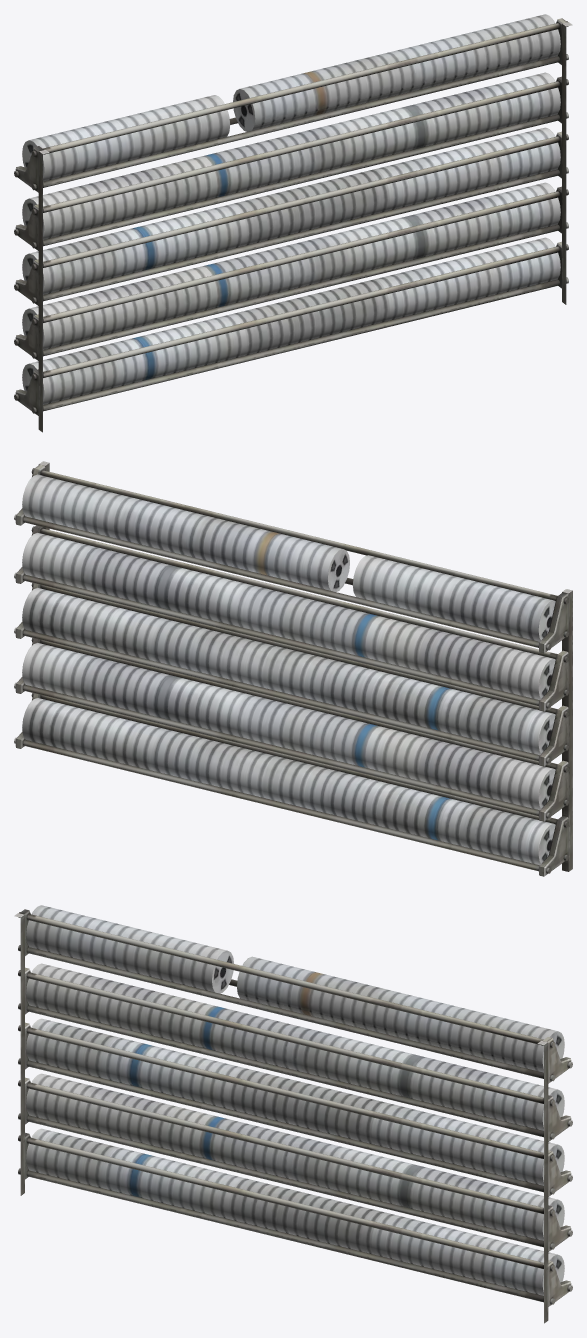
3 views of the same model, one above another, from view 1: azimuth 30°, elevation 25°; view 2: azimuth 150°, elevation 25°; view 3: azimuth 330°, elevation 25° (orthographic).
Visible parts, largest first — view 1: body0_model0_lod0_mesh0; view 2: body0_model0_lod0_mesh0; view 3: body0_model0_lod0_mesh0.
Boxes of the visible parts, <box> form: body0_model0_lod0_mesh0: <box>14,14,572,432</box>; body0_model0_lod0_mesh0: <box>14,461,572,876</box>; body0_model0_lod0_mesh0: <box>14,905,572,1323</box>.
Size of the model in its own units: 257 by 128 by 23.28.
Materials: 1 (1 with a texture image).
